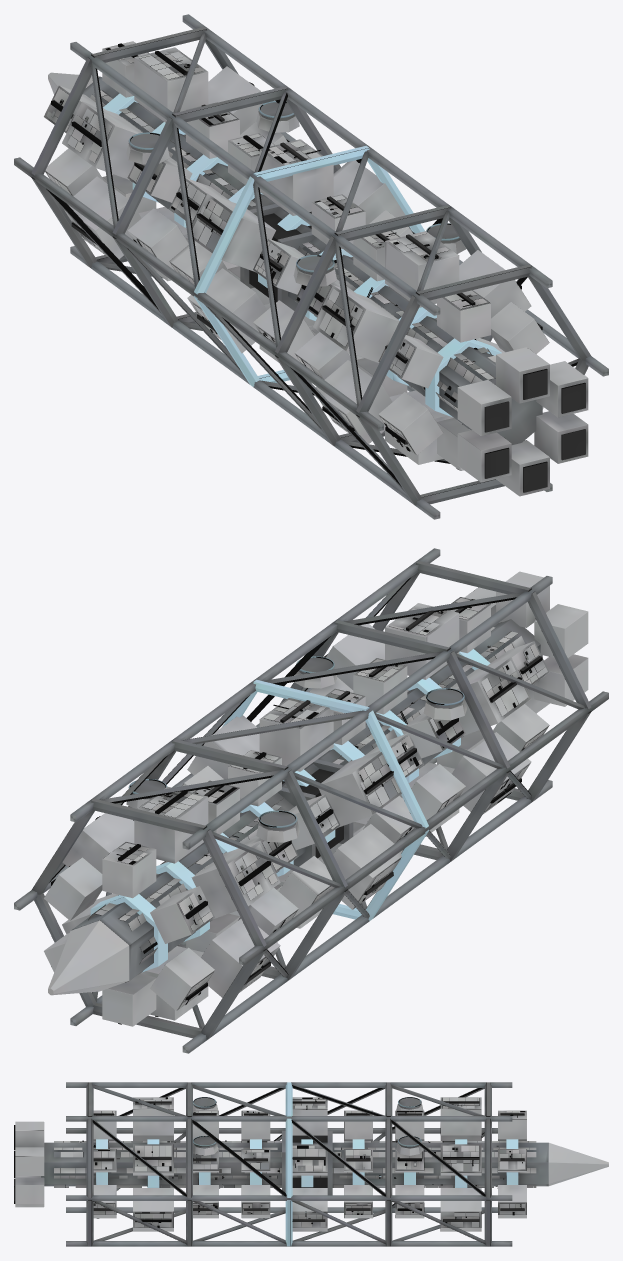
File: machine_lattice_hero.glb
3 views of the same model, one above another, from view 1: azimuth 30°, elevation 25°; view 2: azimuth 150°, elevation 25°; view 3: azimuth 270°, elevation 25° (orthographic). The views are drawn at different scales.
Visible parts, largest first — view 1: HullBaked; view 2: HullBaked; view 3: HullBaked.
Boxes of the visible parts, x1,y1,x2,y2 form: HullBaked: (14,14,608,519); HullBaked: (14,548,608,1053); HullBaked: (14,1082,608,1246).
Size of the model in its own units: 76.44 by 66.93 by 276.
Materials: 1 (1 with a texture image).
